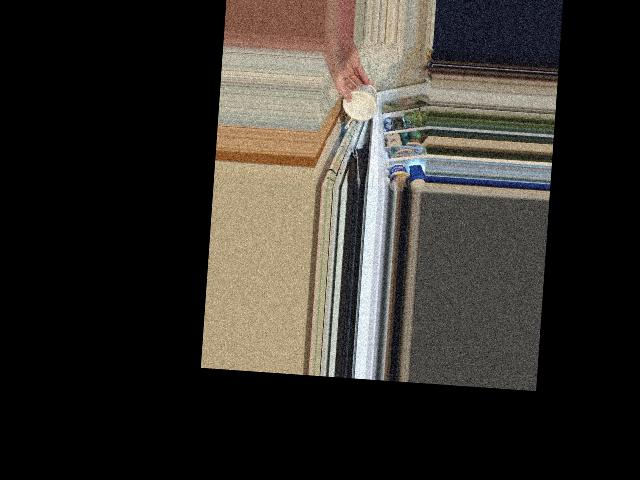cotage: (343, 83, 376, 124)
